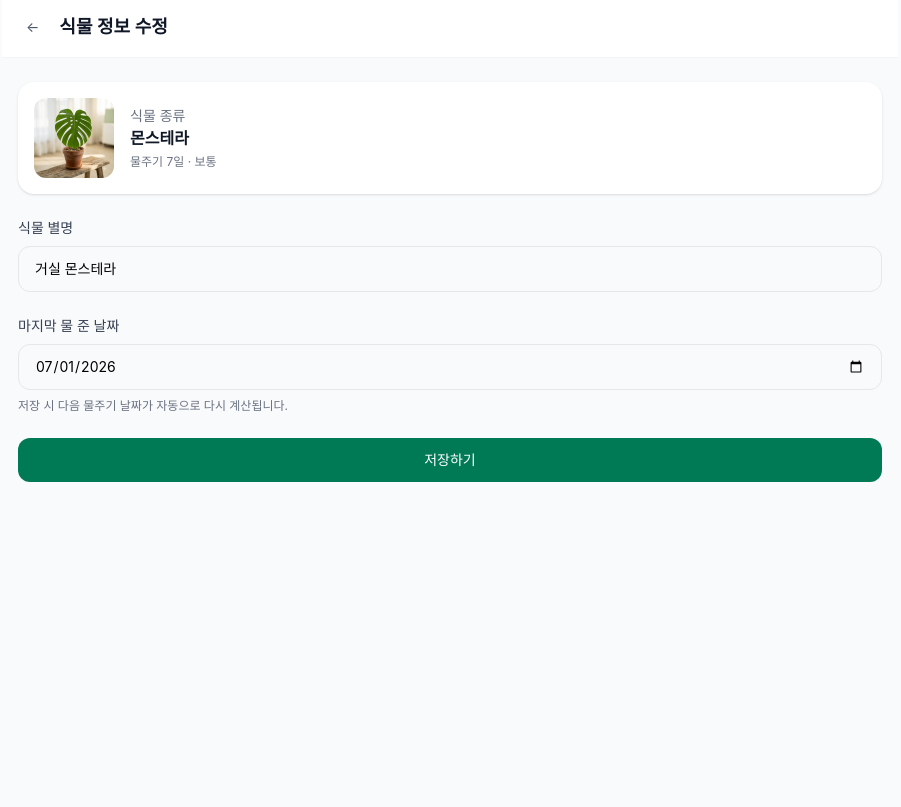
Test case: EditPlantPage › updates plant info and returns to detail page
The width and height of the screenshot is (901, 807).
Replace the text in the field labelled "식물 별명" with "베란다 몬스테라" at (450, 269), box [18, 246, 882, 292]
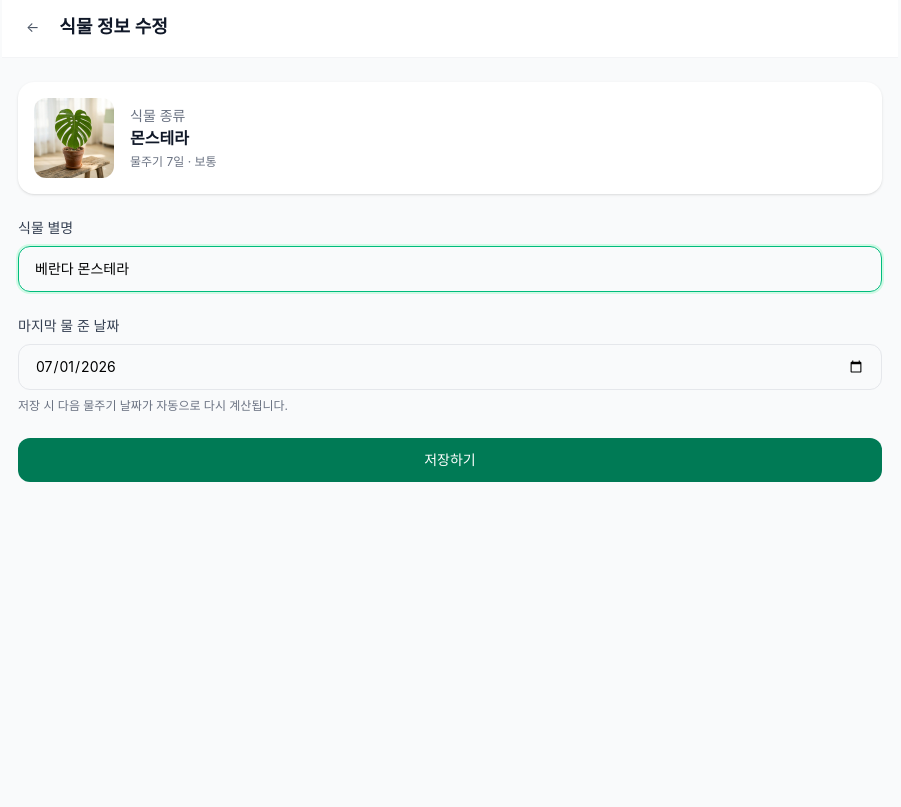
Click the button "저장하기".
click(450, 460)  # box [18, 438, 882, 482]
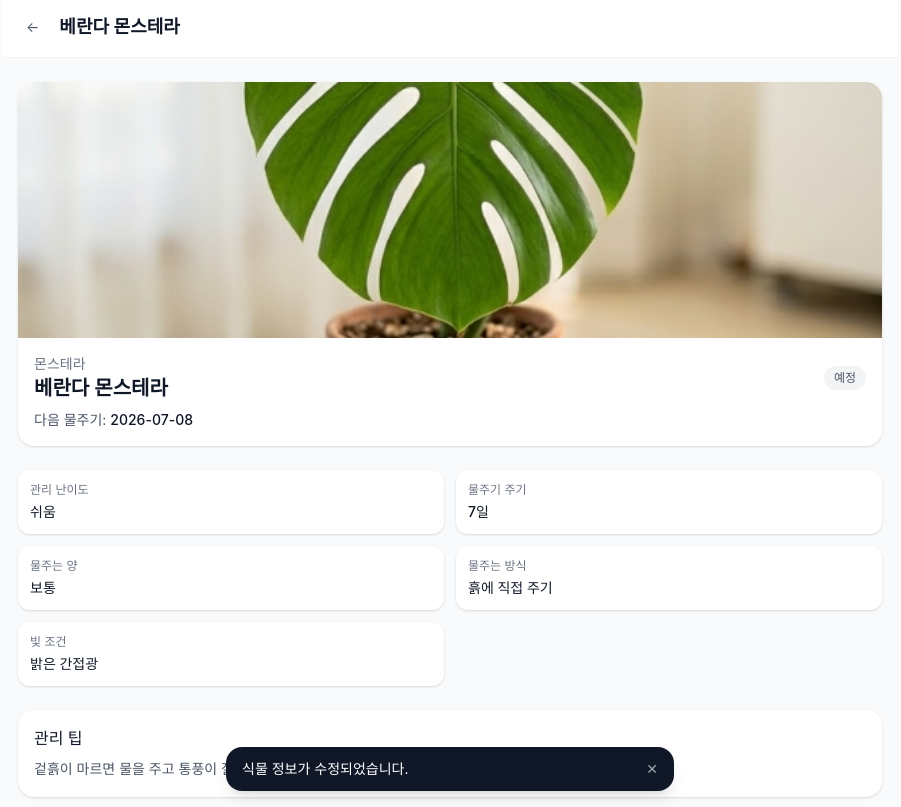
Check: the 1st heading "베란다 몬스테라" is shown, box [59, 16, 180, 37]
